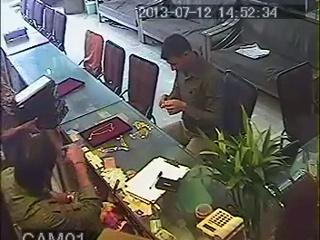Normal: (178, 106, 306, 240), (0, 120, 117, 240), (157, 34, 225, 144), (276, 61, 318, 150), (121, 54, 160, 120), (222, 70, 258, 136), (79, 116, 133, 149)
